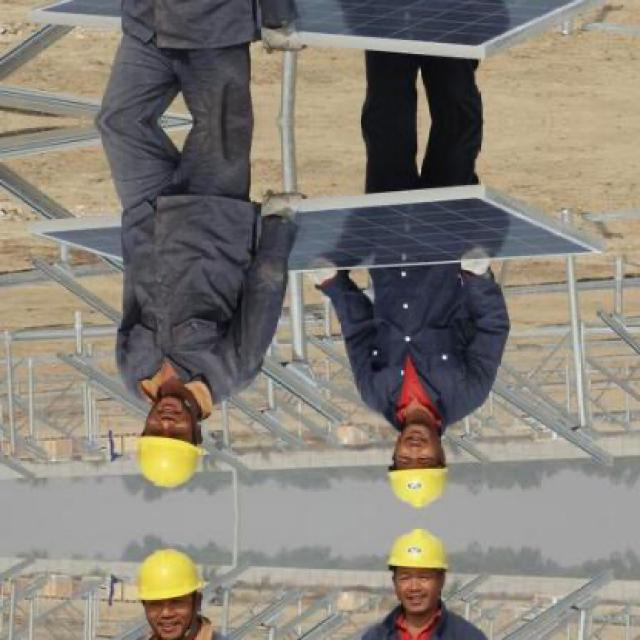con casco: (108, 361, 220, 500), (351, 407, 463, 522)
